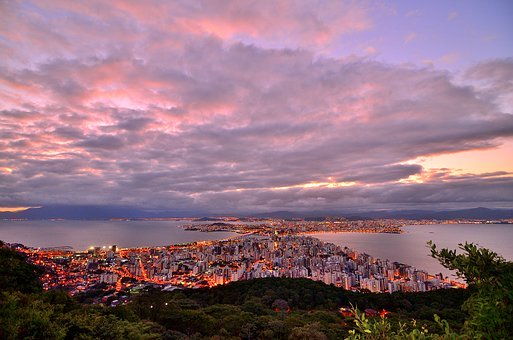forest: (1, 293, 513, 339)
sea: (9, 206, 512, 242)
sky: (4, 1, 508, 219)
vilage: (45, 241, 462, 294)
